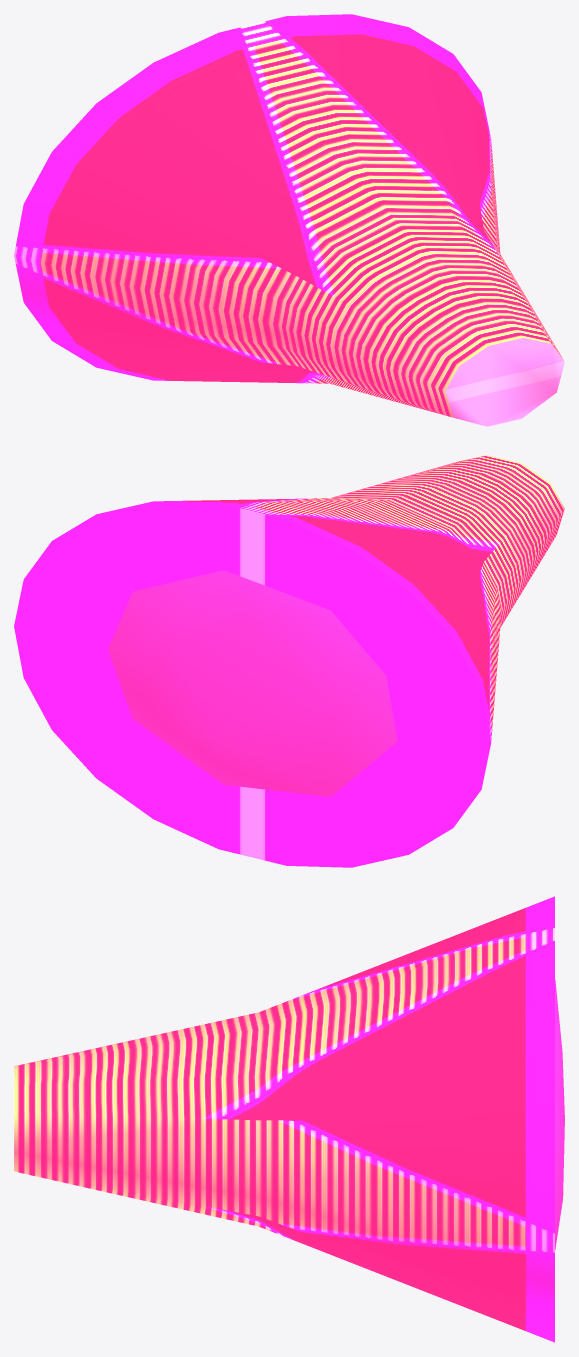
Rendered from ENGINE.glb.
The picture shows the model from 3 angles, top to bottom: view 1: azimuth 30°, elevation 25°; view 2: azimuth 150°, elevation 25°; view 3: azimuth 270°, elevation 25°; orthographic projection. The views are drawn at different scales.
Visible parts, largest first — view 1: ENGINE_03_LITE; view 2: ENGINE_03_LITE; view 3: ENGINE_03_LITE.
Part boxes in pixels (box(x1,y1,x2,y2)): ENGINE_03_LITE: box(14, 14, 564, 426); ENGINE_03_LITE: box(14, 455, 564, 867); ENGINE_03_LITE: box(14, 896, 564, 1342).
Size of the model in its own units: 1.2 by 0.8314 by 1.12.
Materials: 2 (1 with a texture image).
